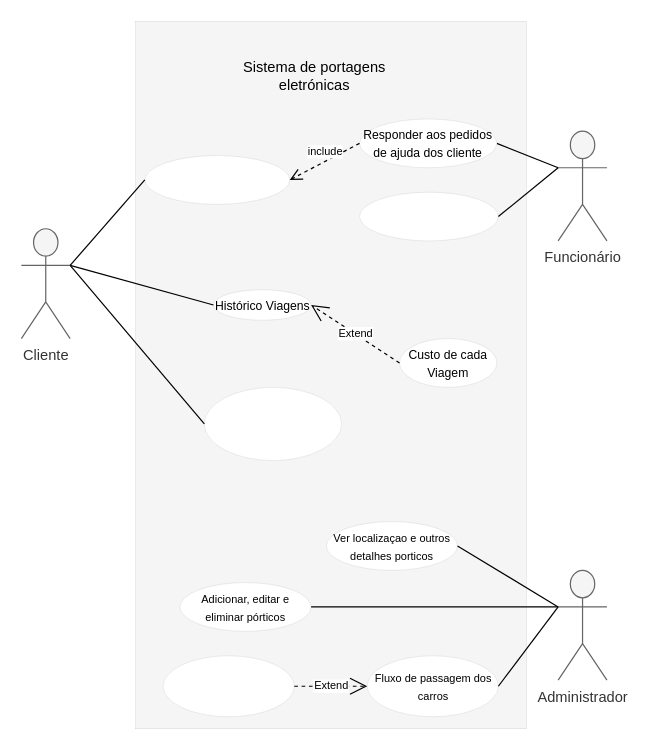
The diagram is 649 pixels wide and 749 high, and some of its shapes have lost their labels. Each missing label, with the centre of its shape:
Filtrar o fluxo de passagem de carros: pixel 228 685
Pedido de ajuda em caso de duvida ou probelma: pixel 272 423
Valida as alterações dos dados das contas: pixel 428 216
Ver as dados da conta (nome, matricula, etc): pixel 216 179
